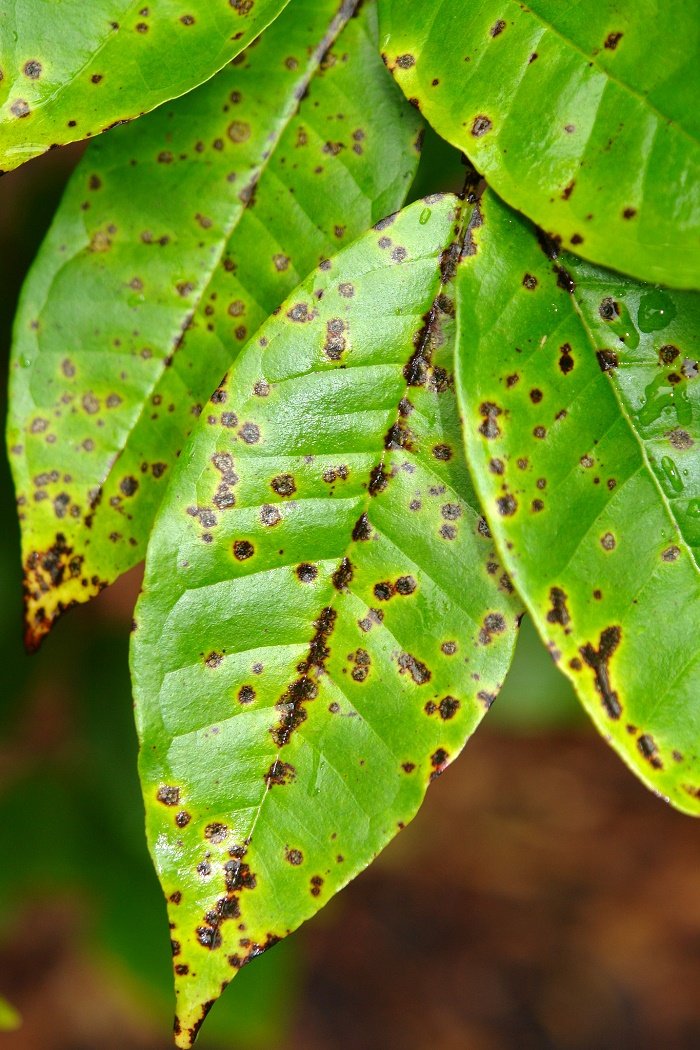unhealthy: (168, 225, 534, 983)
